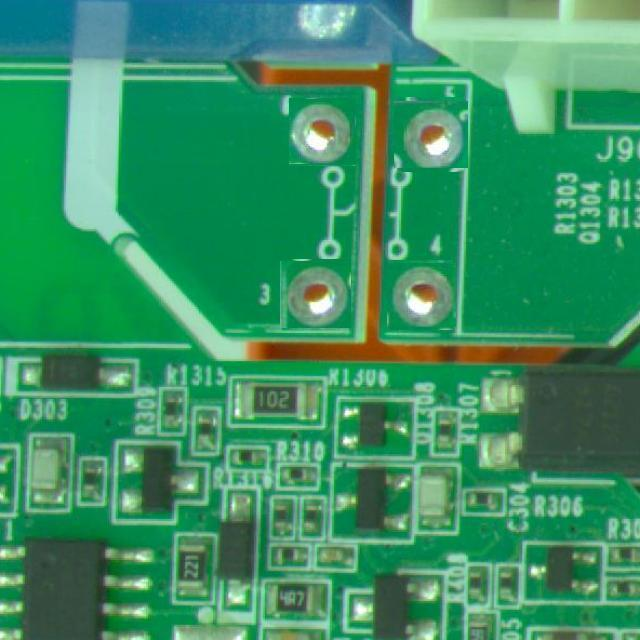lack_of_part: (395, 99, 466, 170), (281, 260, 350, 330), (289, 99, 356, 165), (388, 262, 454, 328)
